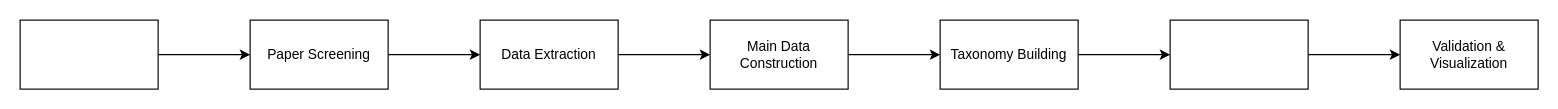
This 1558x109 diagram has some shape labels left out. Here are the shapes that lost their labels. From the top down, the box of each, then its label:
(19, 19, 158, 89): Literature Search
(1169, 19, 1308, 89): Quantitative Analysis
